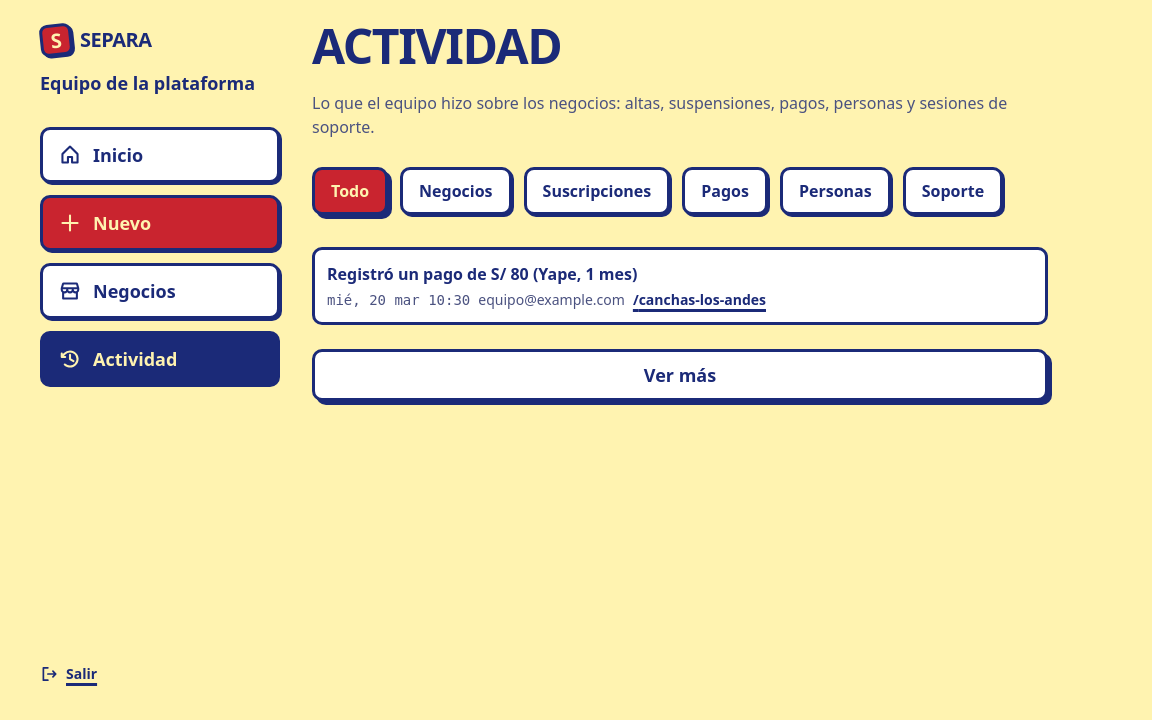
Test: the activity of the team › loads more when there are more
The image size is (1152, 720).
Click the button "Ver más": (680, 375) [312, 349, 1048, 401]
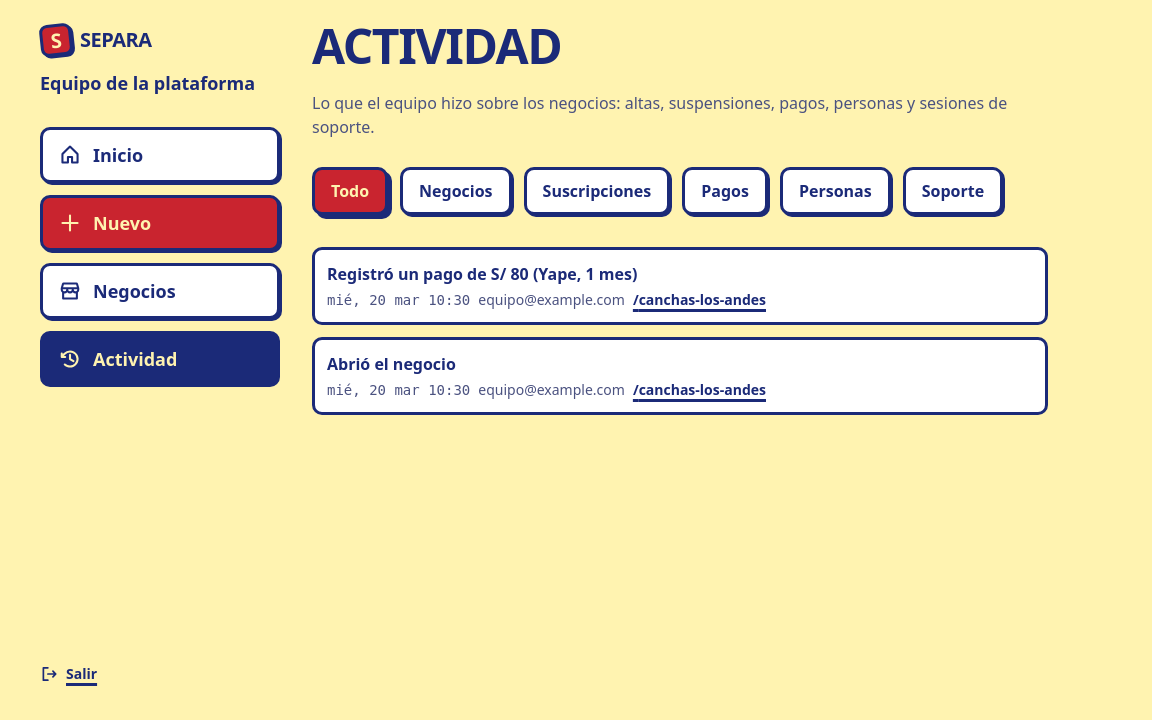
Expected: the text "Abrió el negocio" is shown, [327, 353, 456, 375]
